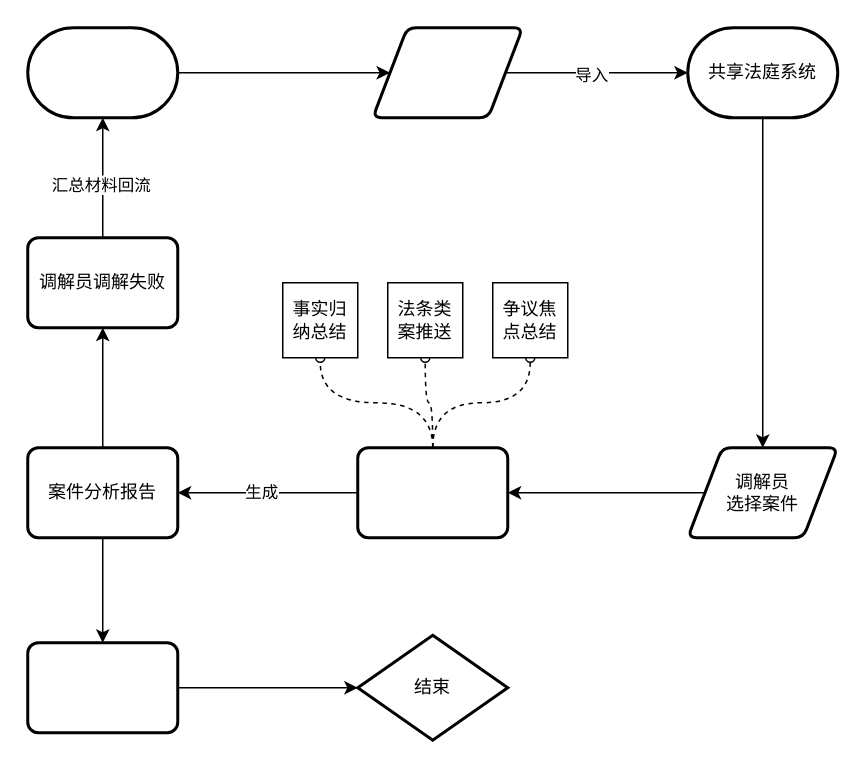
Some shapes in this 864 by 767 pixel diagram are drawn without their labels. The shapes that lost their labels are listed below. From the top down, each one's box as (x1, y1, x2, y2) in pixels, then its label:
(26, 26, 178, 118): 内网
(370, 26, 524, 118): 法官筛选案件
(356, 446, 508, 538): 调用LLM能力 处理案件信息
(26, 640, 178, 734): 调解员调解成功
